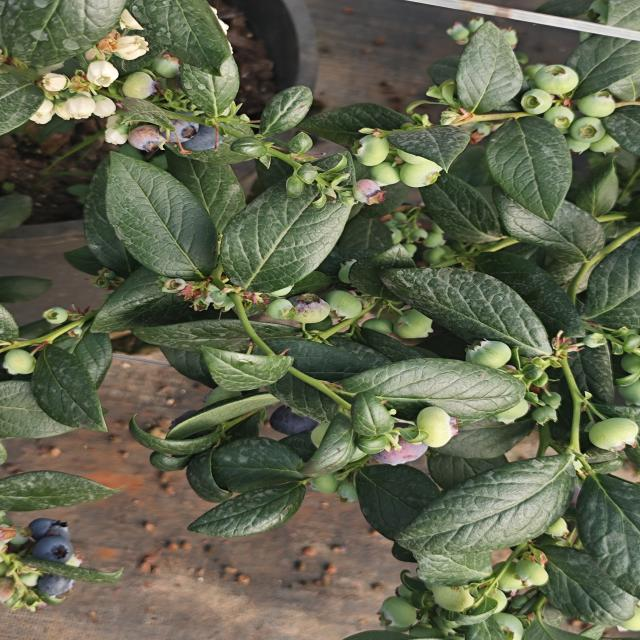ripe: (361, 421, 429, 477), (265, 396, 323, 439), (27, 512, 76, 548), (31, 571, 75, 609), (26, 536, 76, 567), (163, 108, 205, 144), (186, 126, 226, 161)
